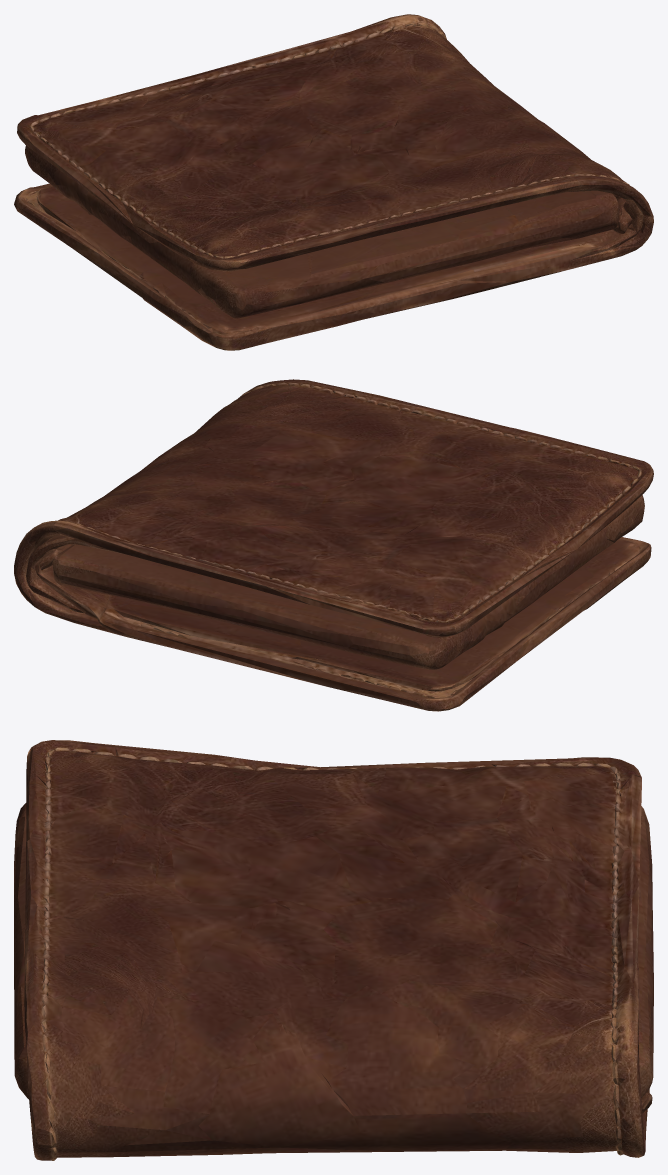
Rendered from e4wallet.glb.
3 views of the same model, one above another, from view 1: azimuth 30°, elevation 25°; view 2: azimuth 150°, elevation 25°; view 3: azimuth 270°, elevation 25° (orthographic). The views are drawn at different scales.
Parts seen in each view (by area): view 1: output_unwrapped; view 2: output_unwrapped; view 3: output_unwrapped.
Part boxes in pixels (bbox=[...]): output_unwrapped: bbox=[14, 14, 653, 350]; output_unwrapped: bbox=[14, 379, 653, 711]; output_unwrapped: bbox=[14, 740, 653, 1160].
Size of the model in its own units: 0.11 by 0.0233 by 0.0958.
Materials: 1 (1 with a texture image).
